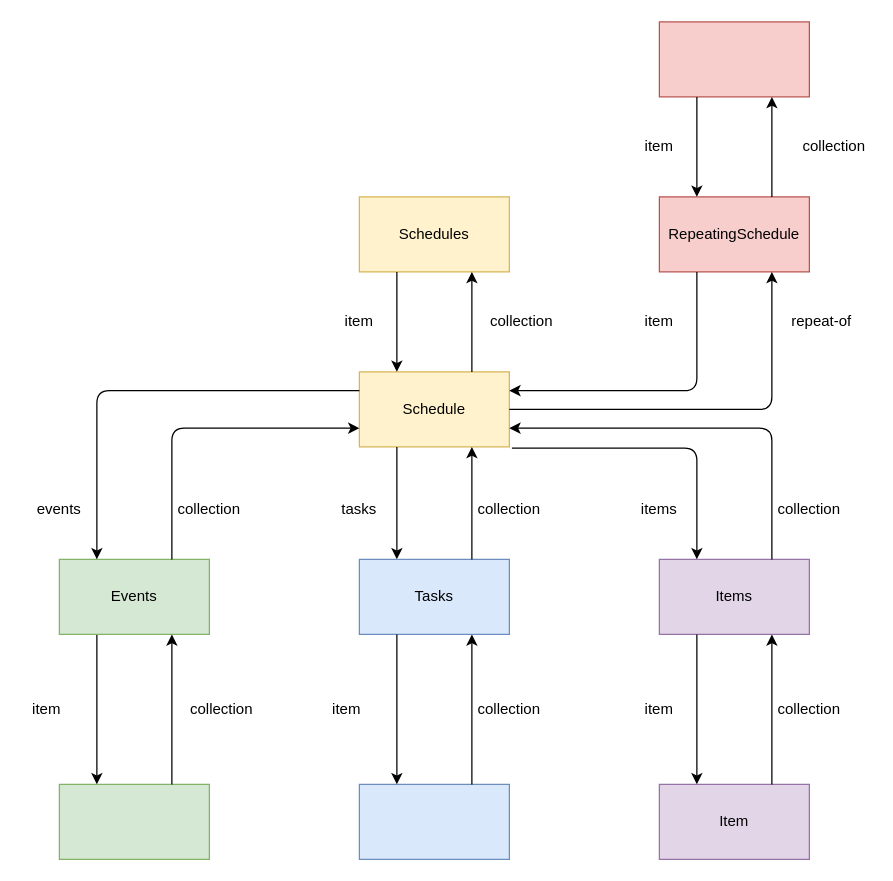
Image size: 893x881. Some labels were removed from this diagram. The shapes that lost their labels are listed below. From the top down, each one's box as (x1, y1, x2, y2) in pixels, then its label:
(658, 21, 809, 97): RepeatingSchedules
(58, 783, 209, 859): Event
(358, 783, 509, 859): Task
